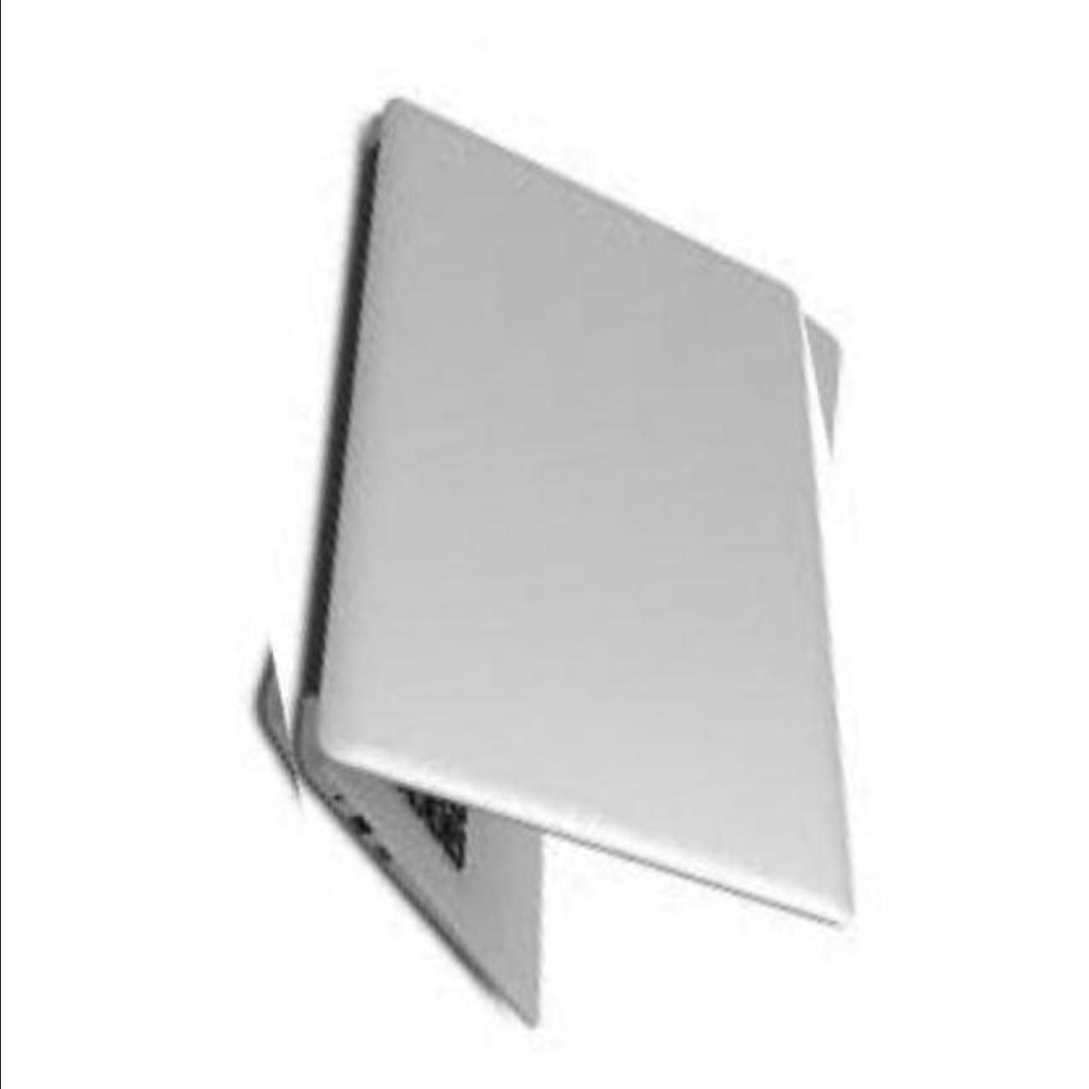laptop: (211, 26, 885, 1069)
